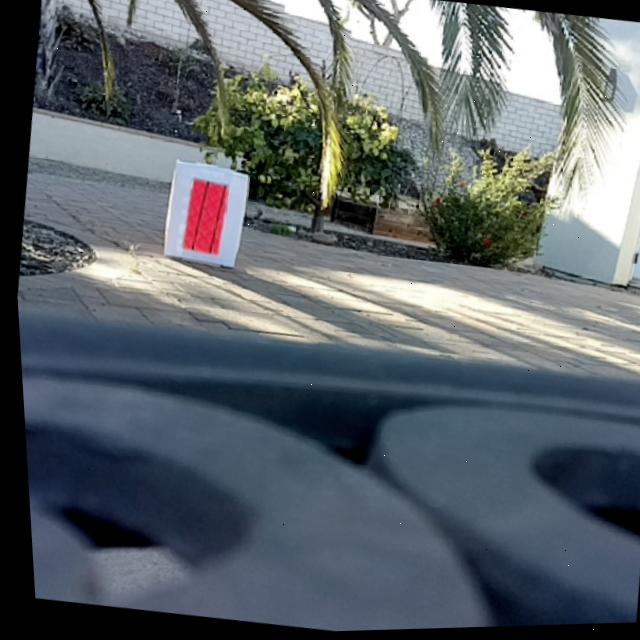led: (177, 179, 233, 263)
